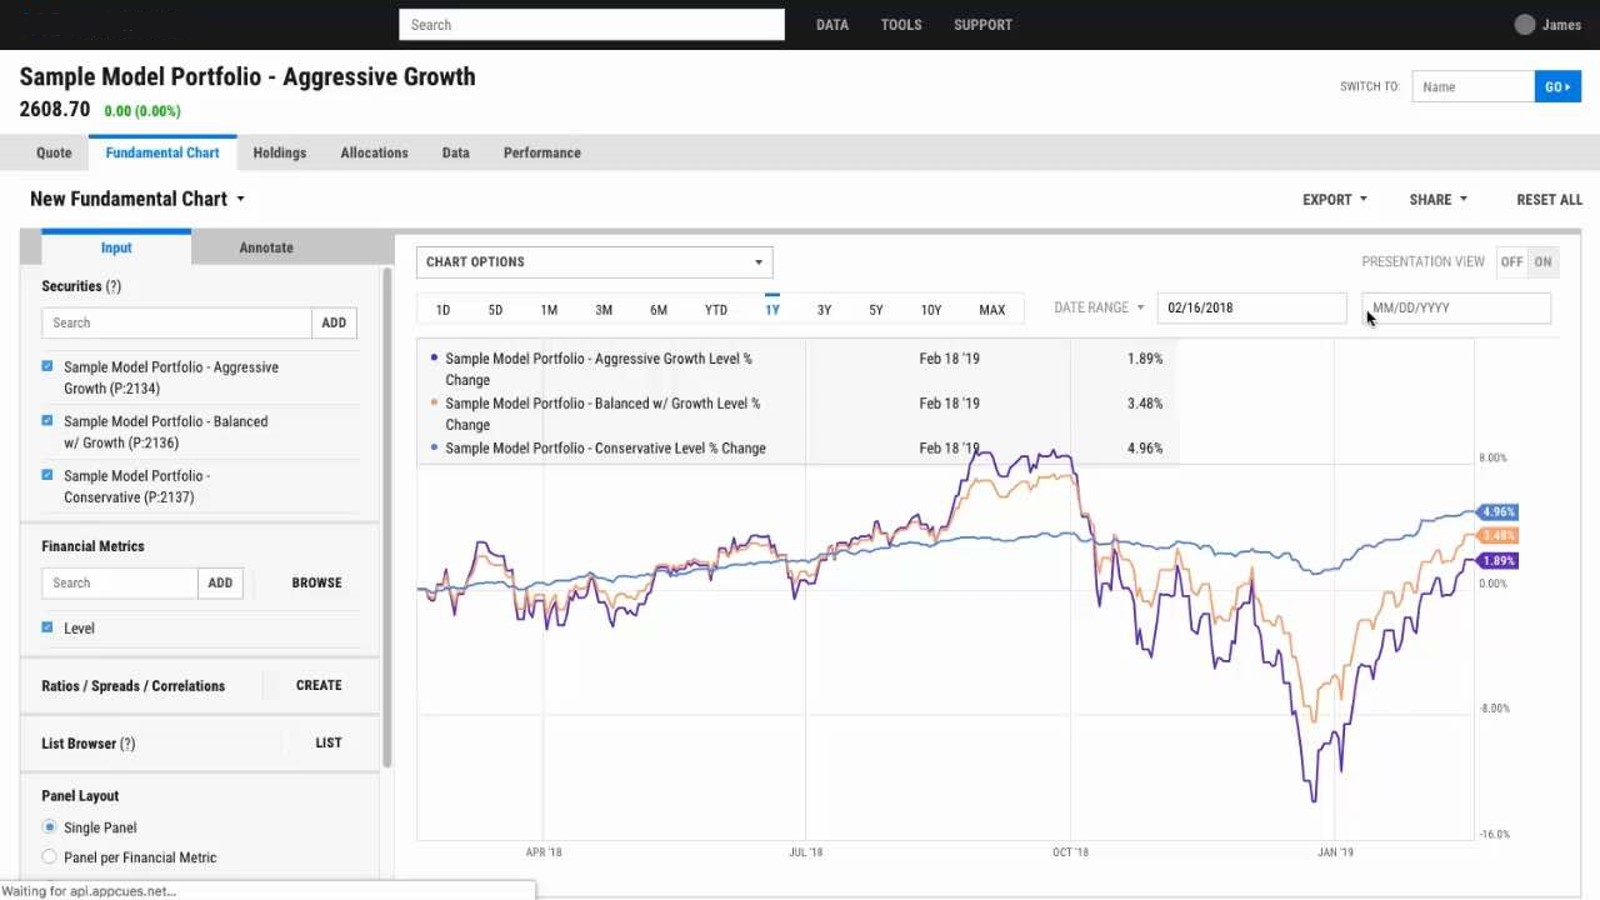block: (21, 226, 382, 773), (1, 51, 1600, 134), (1, 1, 1600, 51), (2, 135, 1600, 170), (22, 524, 380, 654), (19, 773, 380, 878), (22, 715, 382, 773), (21, 656, 384, 711), (1053, 289, 1556, 327), (414, 292, 1026, 323)
button: (262, 668, 366, 700), (262, 567, 369, 598), (310, 307, 357, 337), (196, 567, 243, 597), (1535, 71, 1580, 102)
chart: (392, 229, 1582, 896)
form: (398, 9, 785, 41), (416, 245, 775, 277), (41, 305, 359, 338), (42, 566, 247, 600), (1362, 291, 1549, 325), (1157, 290, 1349, 323), (1414, 70, 1582, 103)
icon: (1496, 246, 1560, 279), (1512, 8, 1542, 43), (747, 246, 773, 278), (1131, 290, 1156, 322), (229, 182, 254, 214), (34, 351, 62, 379), (34, 841, 62, 869), (34, 404, 62, 432), (34, 459, 62, 487), (32, 611, 59, 638), (36, 812, 63, 840), (1355, 187, 1378, 209), (1453, 187, 1476, 209)
